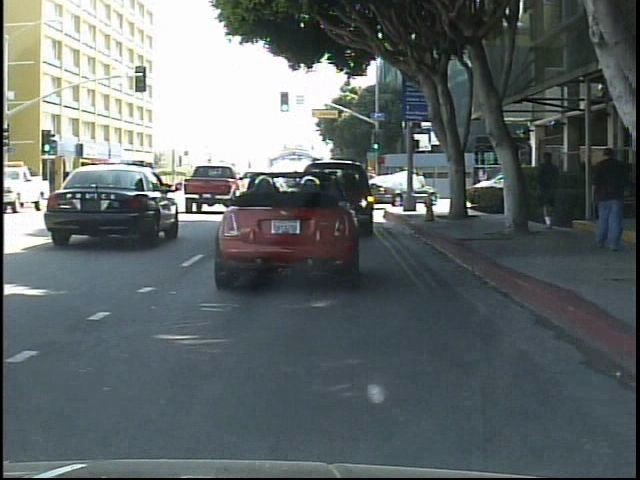person: (587, 141, 636, 260), (530, 146, 570, 236), (135, 175, 153, 202)
